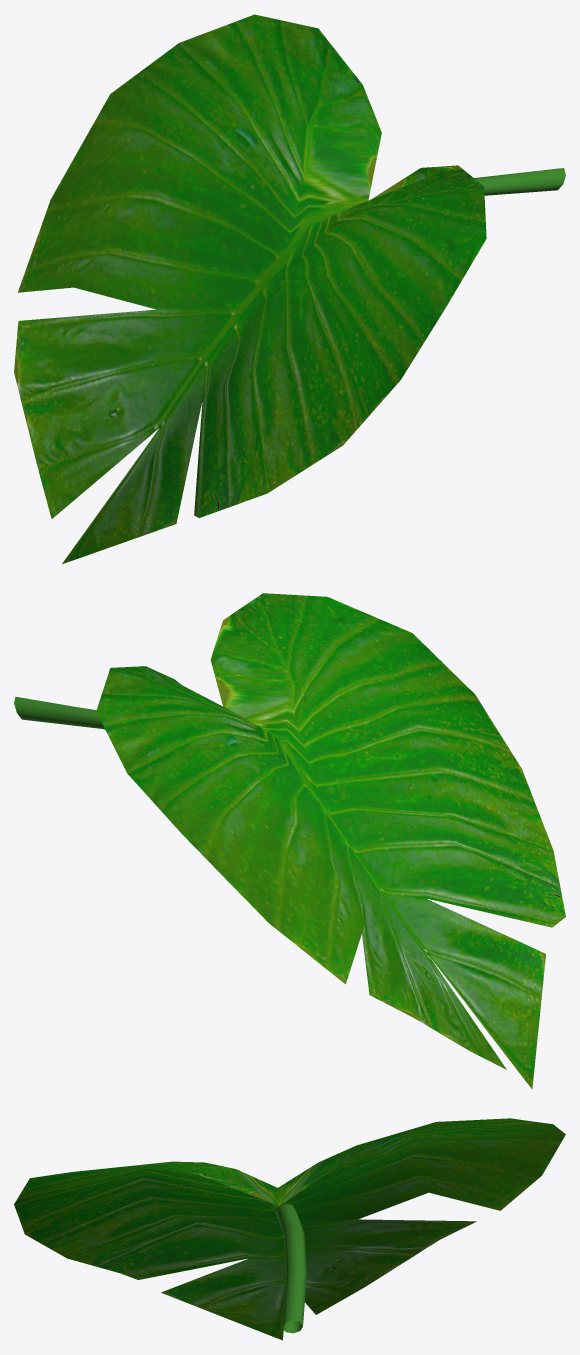
Rendered from env_amazon_leaves_02.fbx.
3 views of the same model, one above another, from view 1: azimuth 30°, elevation 25°; view 2: azimuth 150°, elevation 25°; view 3: azimuth 270°, elevation 25° (orthographic). The views are drawn at different scales.
Visible parts, largest first — view 1: env_amazon_leaves_02; view 2: env_amazon_leaves_02; view 3: env_amazon_leaves_02.
Boxes of the visible parts, box(x1,y1,x2,y2) form: env_amazon_leaves_02: box(14, 14, 565, 564); env_amazon_leaves_02: box(14, 593, 565, 1089); env_amazon_leaves_02: box(14, 1118, 565, 1340).
Bounding box in the file's own units: 1.64 × 1.22 × 1.62.
1 material, 1 textured.
